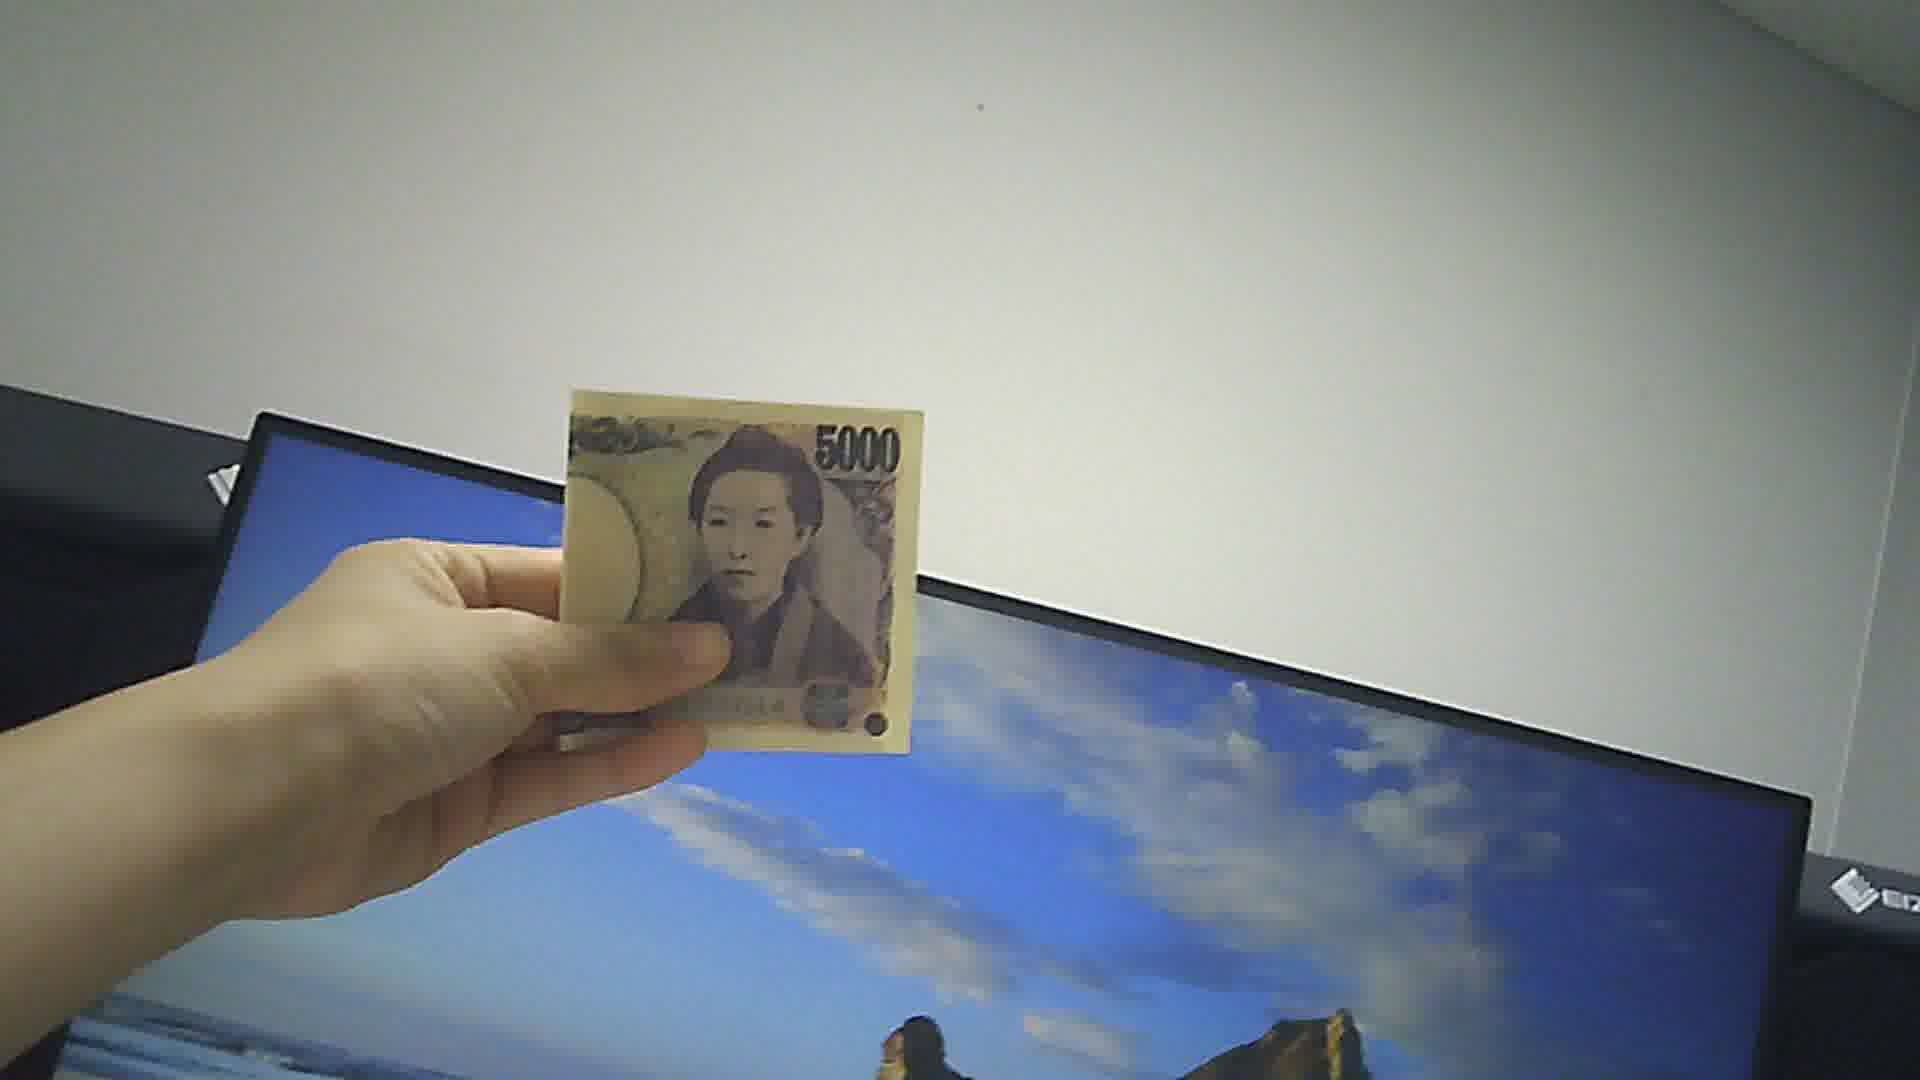5,000 Yen: (550, 377, 935, 764)
